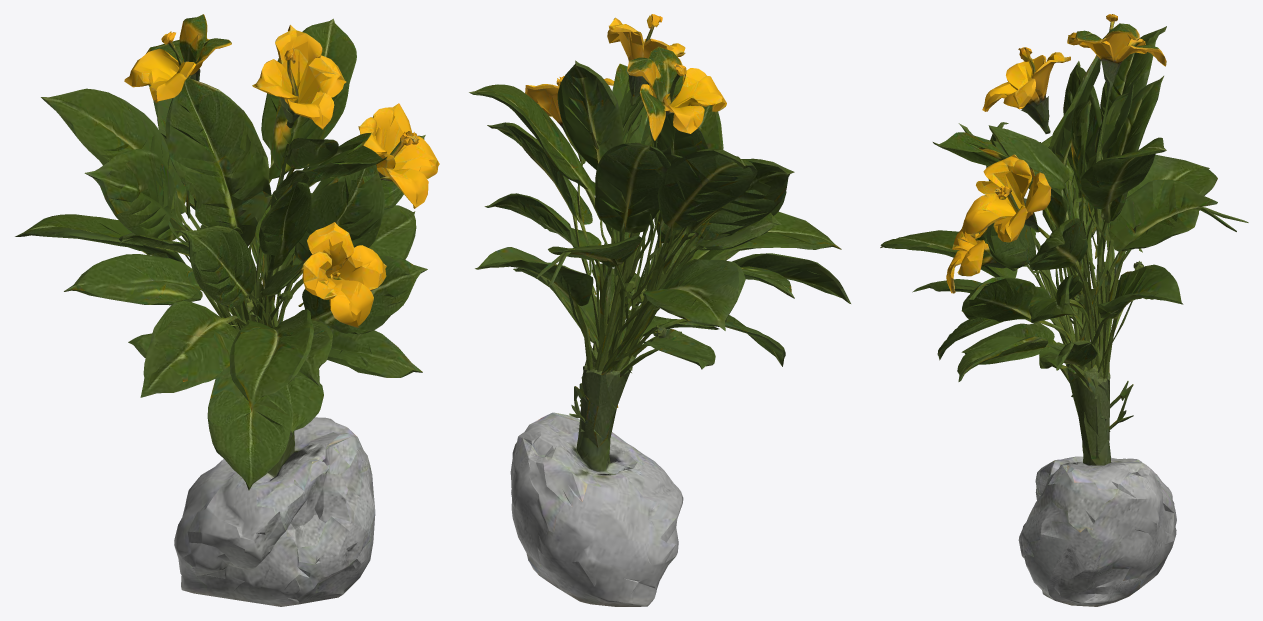
Rendered from fiori.glb.
3 renders of one model, left to right at view 1: azimuth 30°, elevation 25°; view 2: azimuth 150°, elevation 25°; view 3: azimuth 270°, elevation 25°, orthographic. The views are drawn at different scales.
Visible parts, largest first — view 1: Mesh_0; view 2: Mesh_0; view 3: Mesh_0.
Boxes of the visible parts, box(x1,y1,x2,y2) form: Mesh_0: box(15, 14, 439, 606); Mesh_0: box(469, 14, 850, 606); Mesh_0: box(880, 14, 1248, 606).
Bounding box in the file's own units: 0.6274 × 1 × 0.6341.
1 material, 1 textured.
